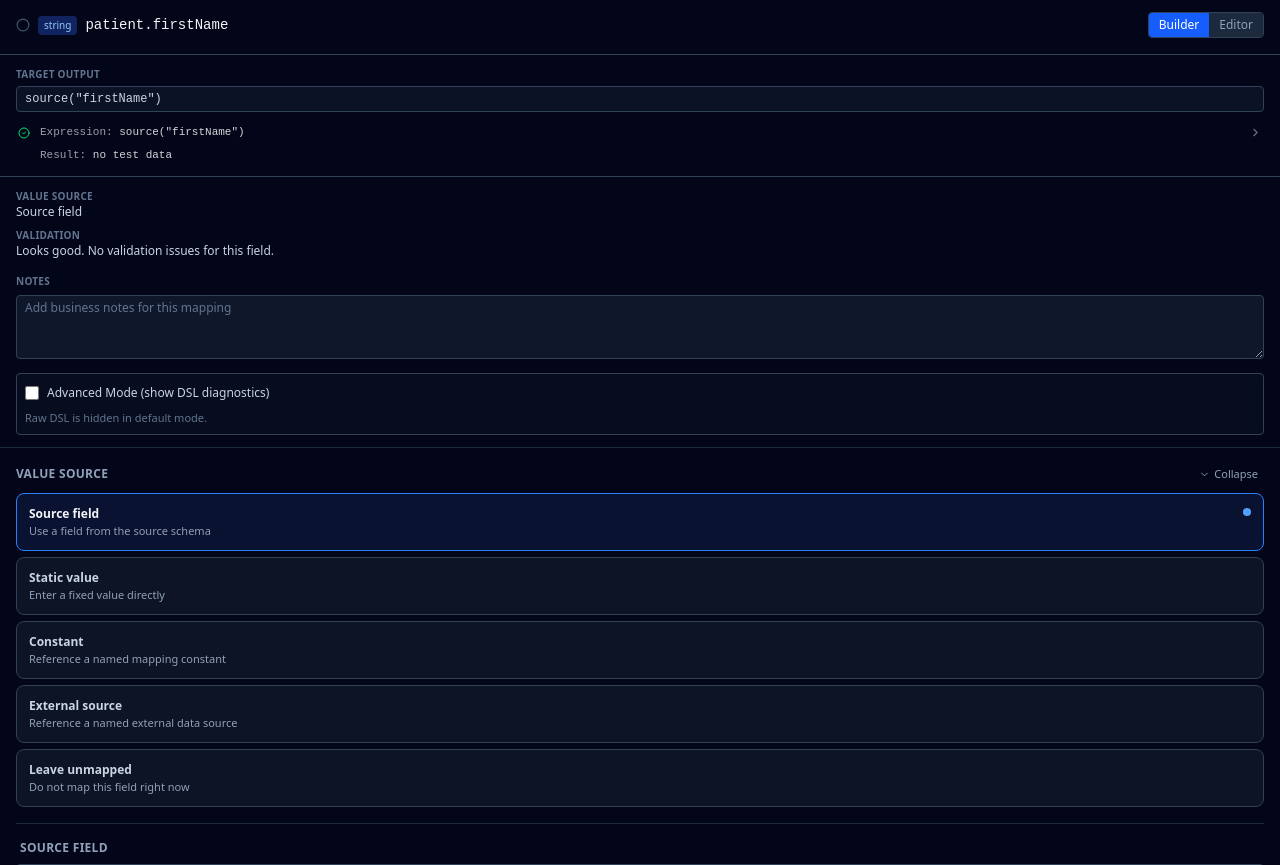
it: ScalarFieldBuilder › keeps advanced mode DSL hidden by default and reveals it when enabled
Expected: the text "Raw DSL is hidden in default mode." is shown, [25,410,207,424]
Click the checkbox with test id "advanced-mode-toggle".
click(32, 392)  # box [25,386,39,400]
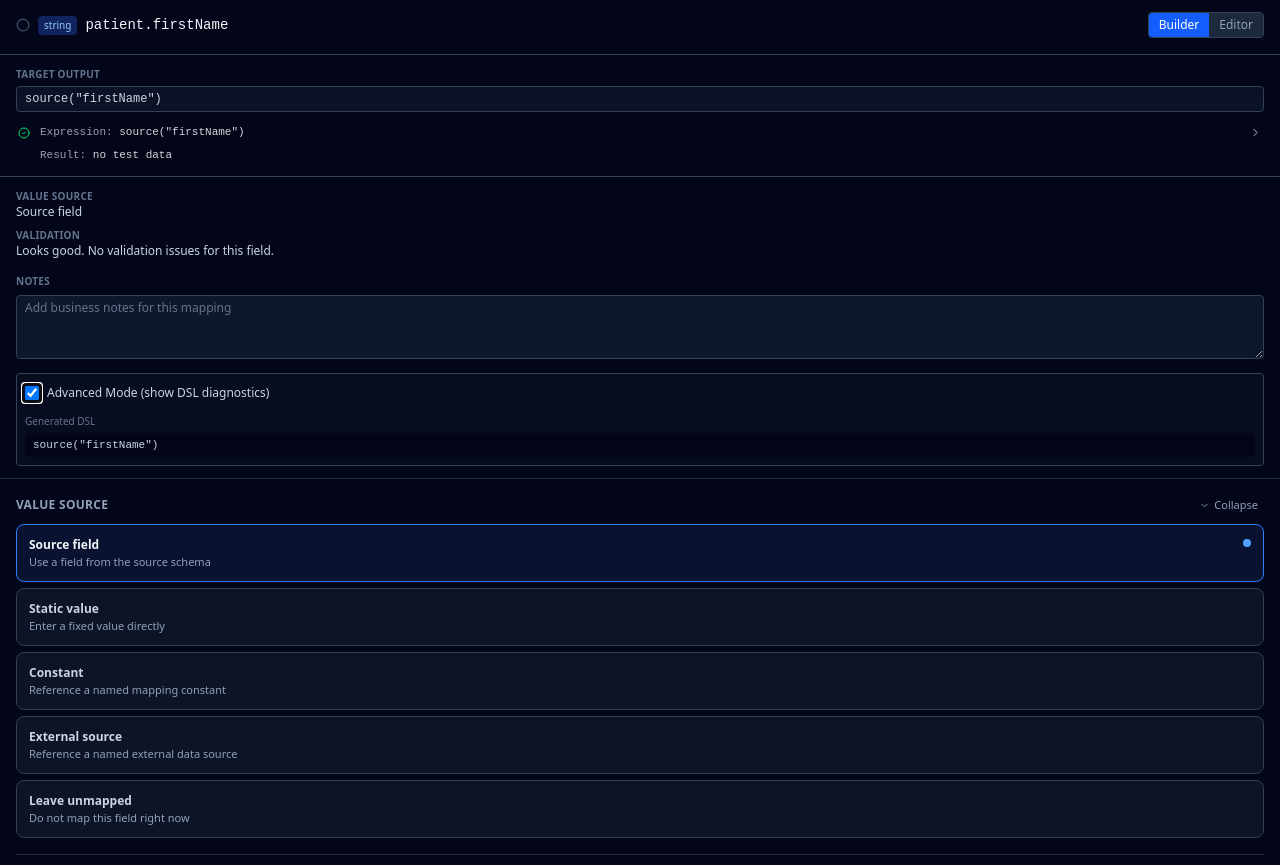
Now the element with test id "advanced-mode-dsl-panel" is shown, box [25,414,1255,457]
